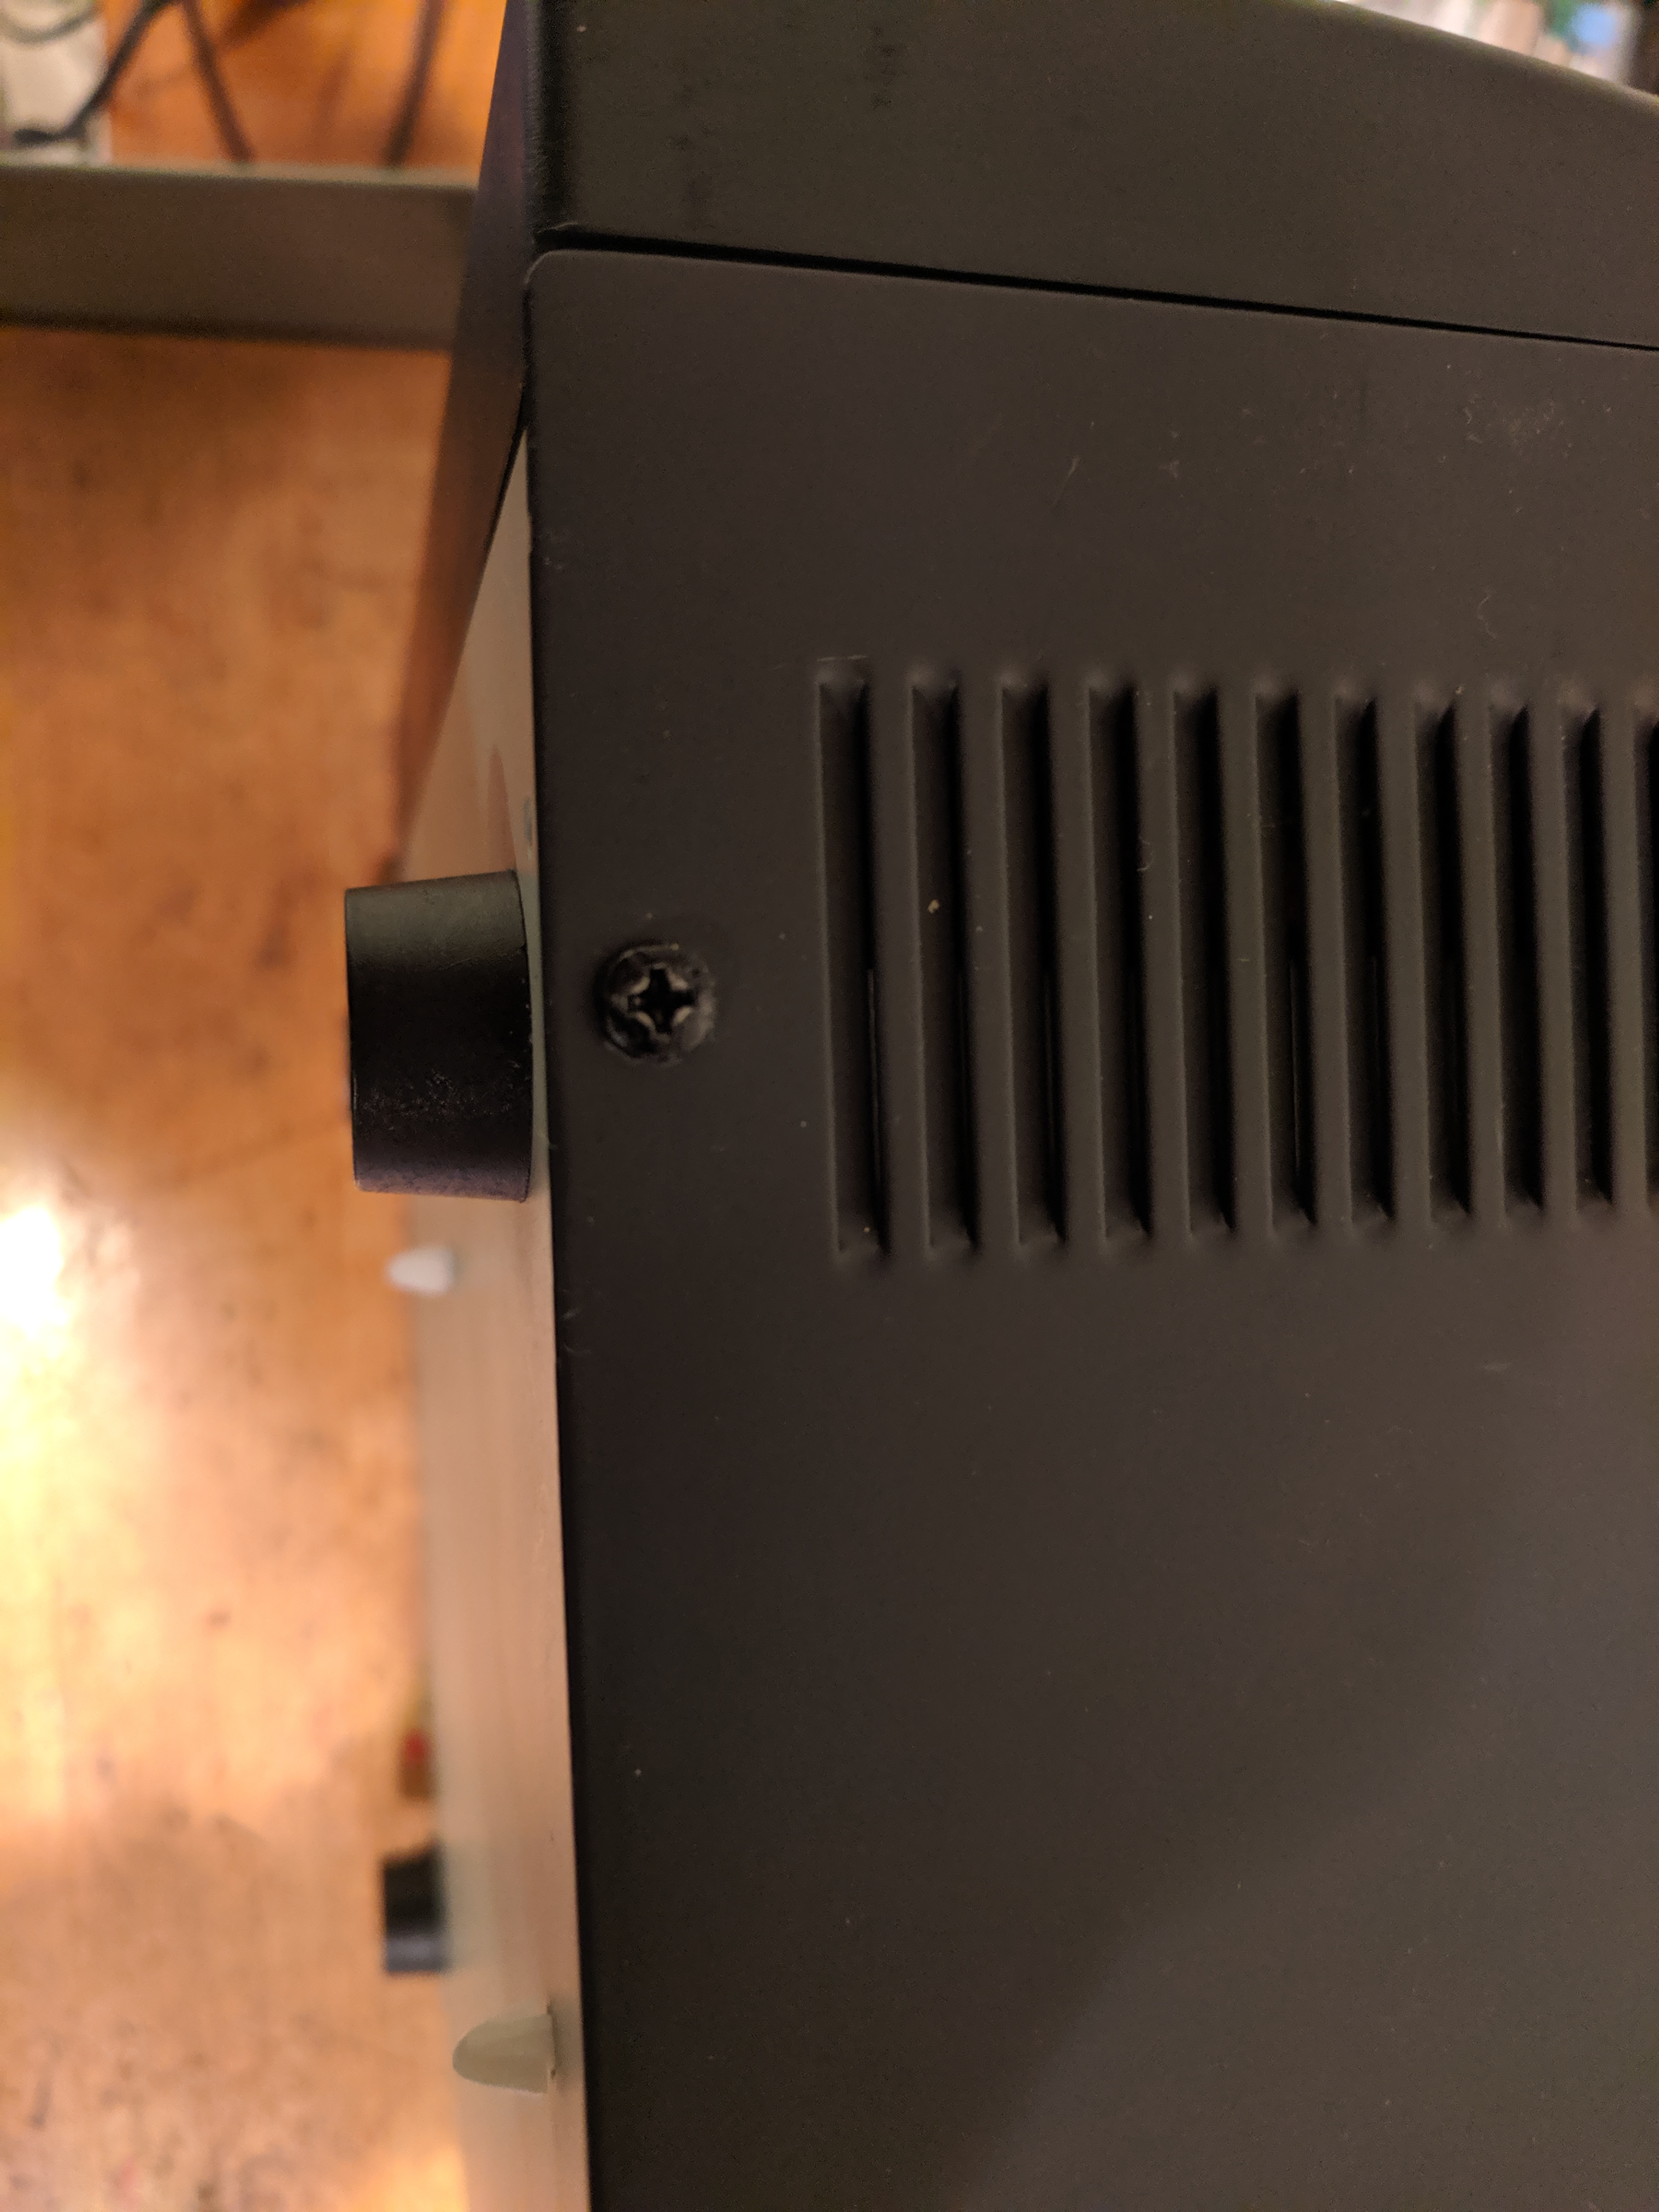cross_recessed_screw: (917, 956, 1028, 1055)
